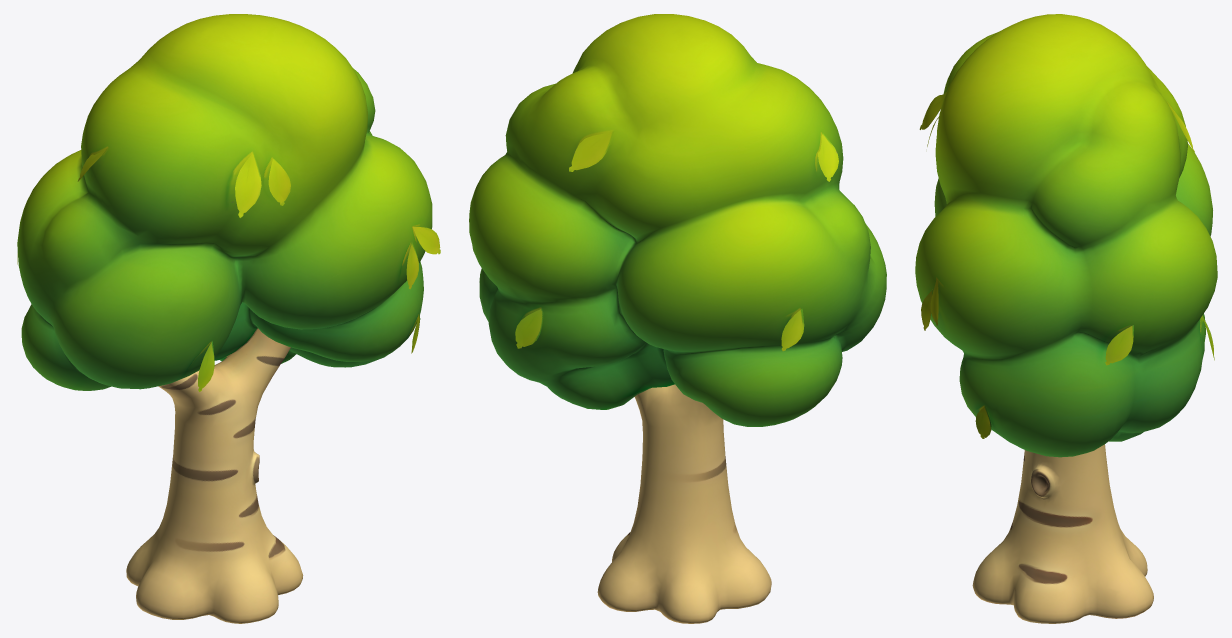
Rendered from birch-tree.glb.
The picture shows the model from 3 angles, left to right: view 1: azimuth 30°, elevation 25°; view 2: azimuth 150°, elevation 25°; view 3: azimuth 270°, elevation 25°; orthographic projection. The views are drawn at different scales.
Parts seen in each view (by area): view 1: baa29414_c546_4f68_b29f_2b8d3617f94c; view 2: baa29414_c546_4f68_b29f_2b8d3617f94c; view 3: baa29414_c546_4f68_b29f_2b8d3617f94c.
Part boxes in pixels (left/top/right/bottom): baa29414_c546_4f68_b29f_2b8d3617f94c: left=17, top=14, right=440, bottom=623; baa29414_c546_4f68_b29f_2b8d3617f94c: left=469, top=14, right=886, bottom=623; baa29414_c546_4f68_b29f_2b8d3617f94c: left=915, top=14, right=1217, bottom=623.
Bounding box in the file's own units: 0.6929 × 0.9995 × 0.478.
Materials: 1 (1 with a texture image).
